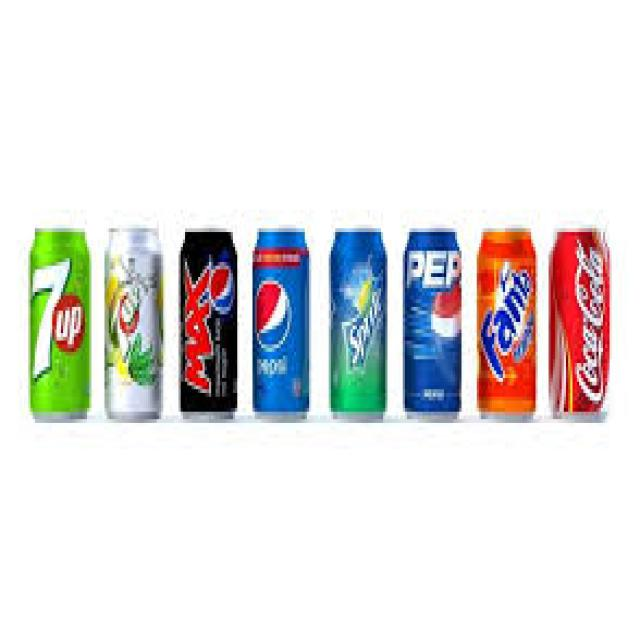Lata: (172, 223, 240, 410), (402, 221, 462, 422), (331, 225, 391, 425)
